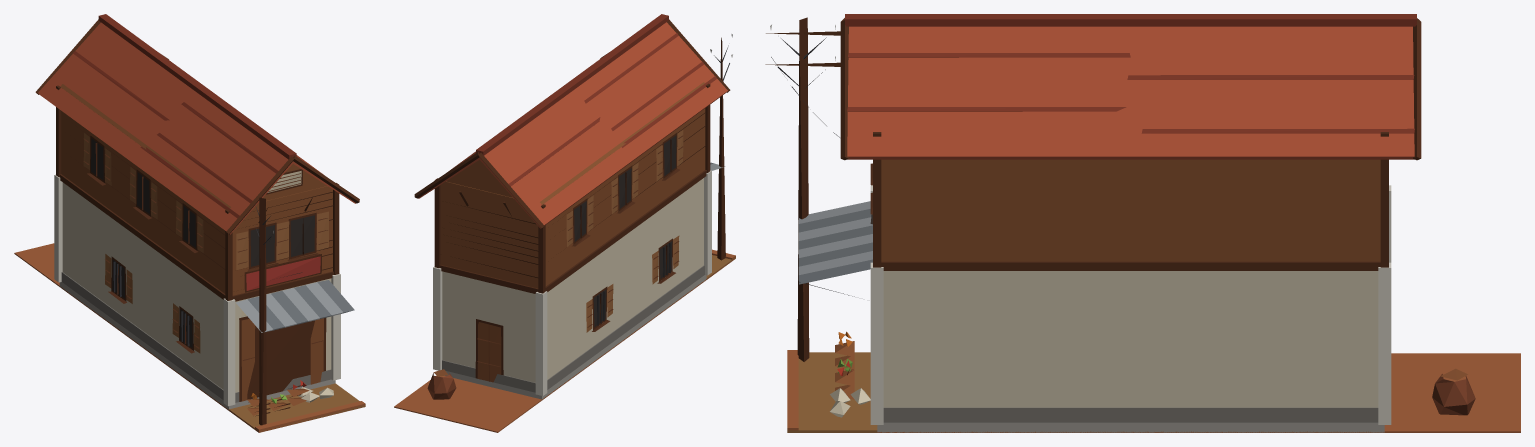
Rendered from bay1_left.glb.
The picture shows the model from 3 angles, left to right: view 1: azimuth 30°, elevation 25°; view 2: azimuth 150°, elevation 25°; view 3: azimuth 270°, elevation 25°; orthographic projection. The views are drawn at different scales.
Parts seen in each view (by area): view 1: body, windows; view 2: body, windows; view 3: body.
Boxes of the visible parts, box(x1,y1,x2,y2) form: body: box(14, 14, 365, 432); windows: box(91, 138, 314, 347); body: box(394, 14, 735, 432); windows: box(574, 135, 676, 327); body: box(765, 14, 1520, 432).
Size of the model in its own units: 5.02 by 9.03 by 16.4.
